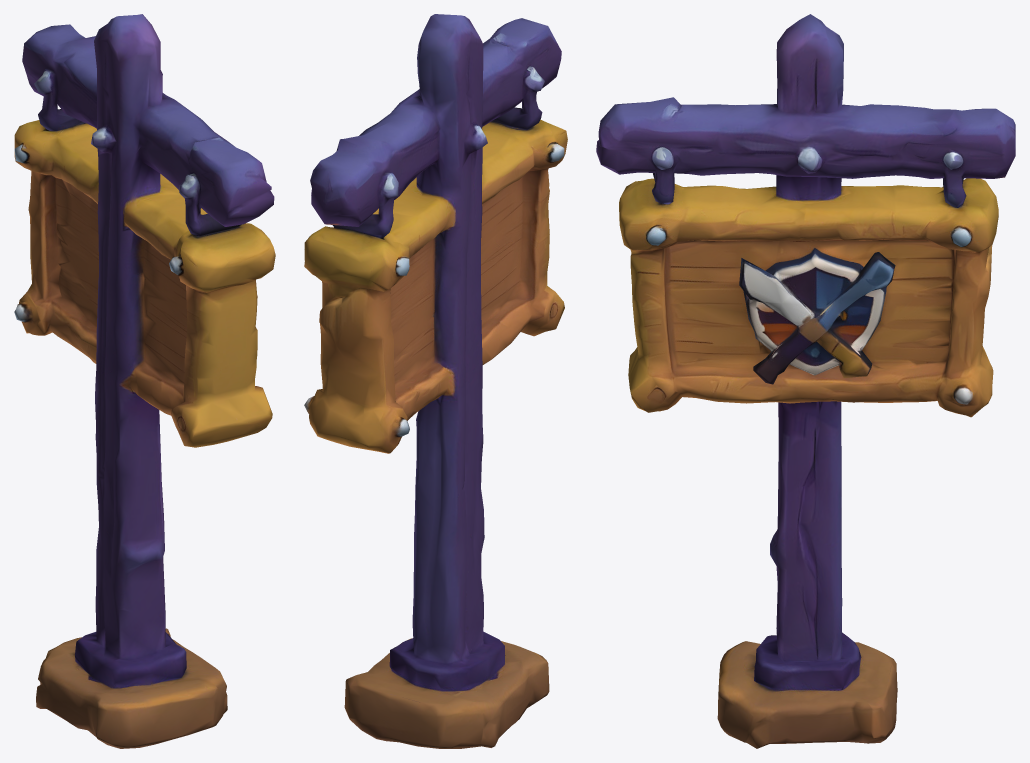
File: prop_guild_signboard_model.glb
The picture shows the model from 3 angles, left to right: view 1: azimuth 30°, elevation 25°; view 2: azimuth 150°, elevation 25°; view 3: azimuth 270°, elevation 25°; orthographic projection.
Parts seen in each view (by area): view 1: tripo_node_fa4cd904-86cc-4615-9883-91d014558336; view 2: tripo_node_fa4cd904-86cc-4615-9883-91d014558336; view 3: tripo_node_fa4cd904-86cc-4615-9883-91d014558336.
Boxes of the visible parts, bbox=[...] form: tripo_node_fa4cd904-86cc-4615-9883-91d014558336: bbox=[14, 14, 275, 748]; tripo_node_fa4cd904-86cc-4615-9883-91d014558336: bbox=[304, 14, 567, 748]; tripo_node_fa4cd904-86cc-4615-9883-91d014558336: bbox=[596, 14, 1015, 748].
Bounding box in the file's own units: 0.2119 × 1 × 0.544.
1 material, 1 textured.
